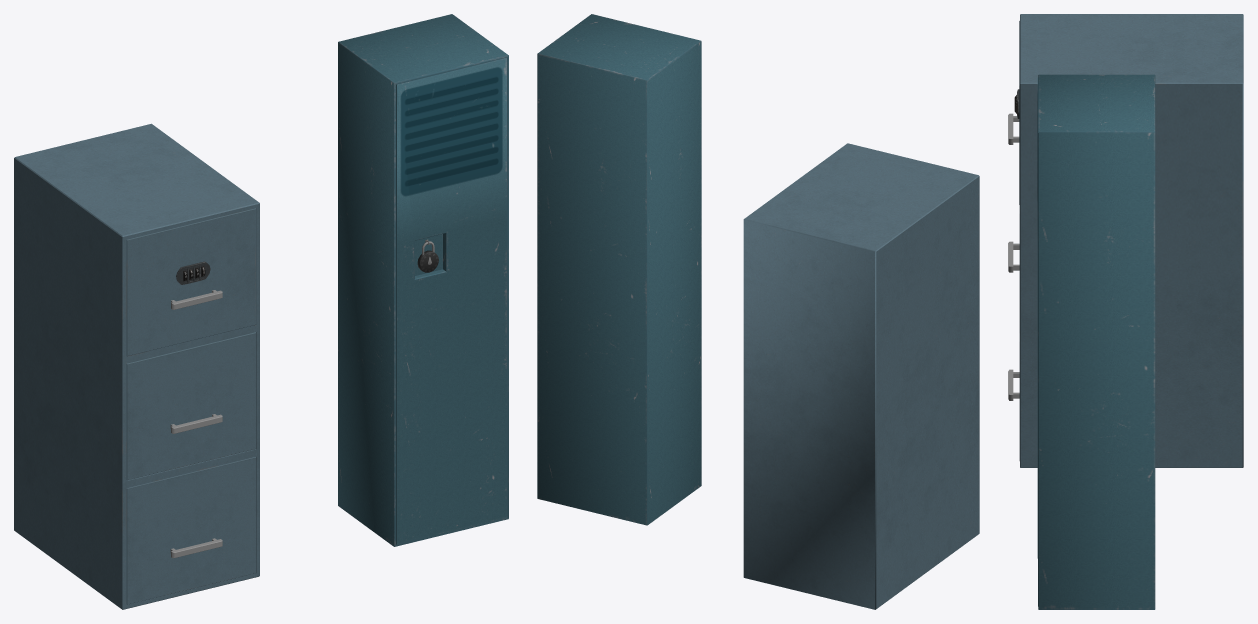
Rendered from Lockers.fbx.
3 renders of one model, left to right at view 1: azimuth 30°, elevation 25°; view 2: azimuth 150°, elevation 25°; view 3: azimuth 270°, elevation 25°, orthographic. The views are drawn at different scales.
Visible parts, largest first — view 1: Locker1, Door_Locker2, Locker2, Drawer_Top_Locker1, Drawer_Middle_Locker1, Drawer_Bottom_Locker1; view 2: Locker1, Locker2; view 3: Locker2, Locker1, Door_Locker2, Drawer_Top_Locker1, Drawer_Middle_Locker1, Drawer_Bottom_Locker1.
Part boxes in pixels (x1,y1,x2,y2): Locker1: [14, 123, 259, 609]; Door_Locker2: [396, 57, 507, 544]; Locker2: [338, 14, 508, 546]; Drawer_Top_Locker1: [126, 208, 256, 356]; Drawer_Middle_Locker1: [126, 332, 255, 480]; Drawer_Bottom_Locker1: [126, 457, 255, 604]; Locker1: [743, 143, 979, 609]; Locker2: [537, 14, 701, 525]; Locker2: [1038, 74, 1155, 609]; Locker1: [1020, 14, 1243, 467]; Door_Locker2: [1037, 77, 1038, 606]; Drawer_Top_Locker1: [1008, 21, 1019, 205]; Drawer_Middle_Locker1: [1008, 206, 1019, 332]; Drawer_Bottom_Locker1: [1008, 333, 1019, 460].
Bounding box in the file's own units: 256 × 287 × 128.
2 materials, 2 textured.
